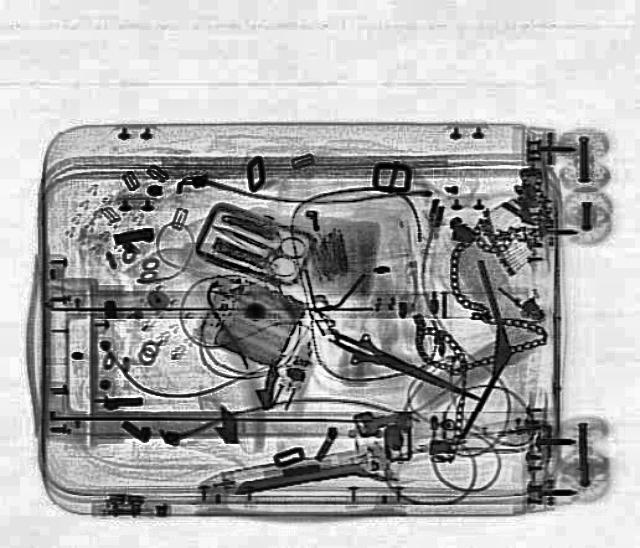Knife: (316, 320, 486, 412)
Scissors: (200, 206, 314, 278)
